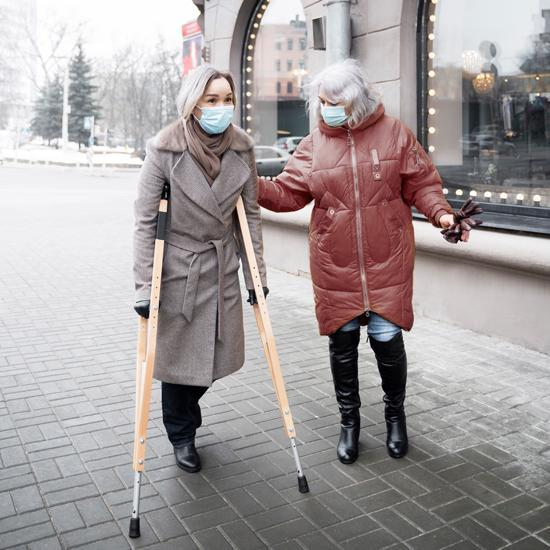crutches: (111, 58, 313, 543)
